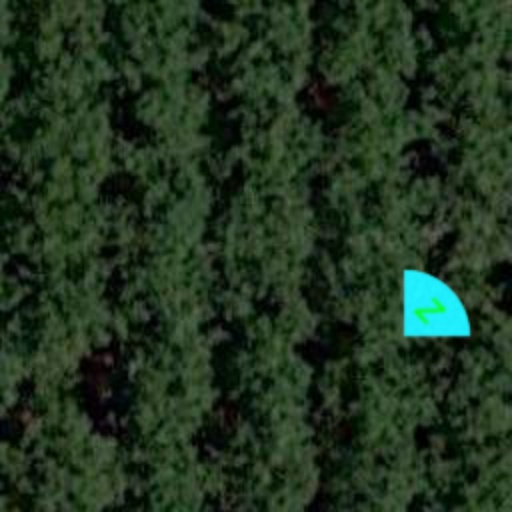quarter_circle: (368, 244, 496, 372)
